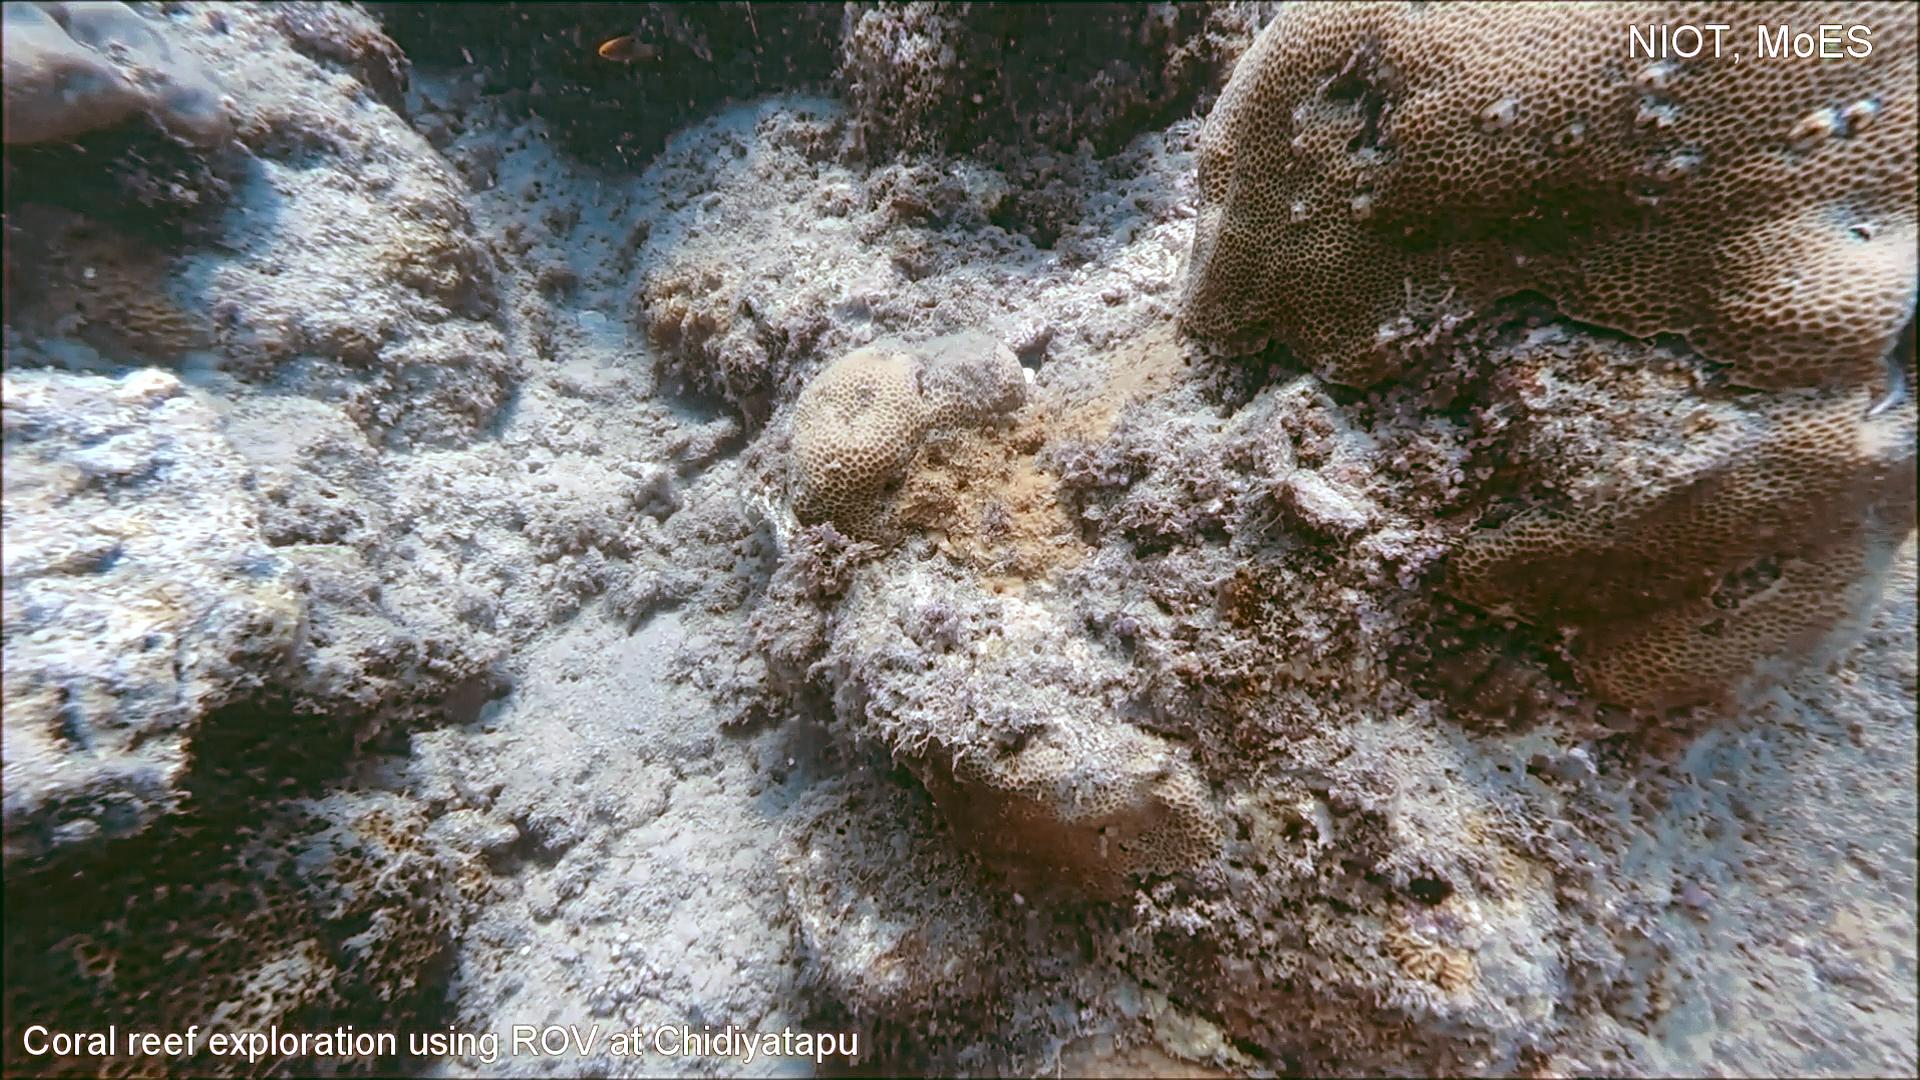Montastraea: (1014, 1029, 1232, 1080)
